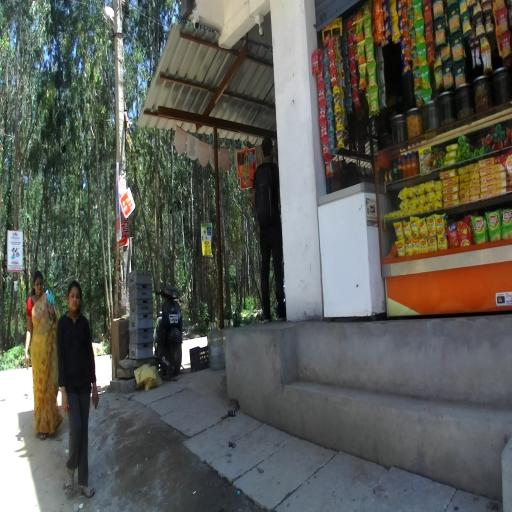street_light_0: (103, 6, 124, 40)
